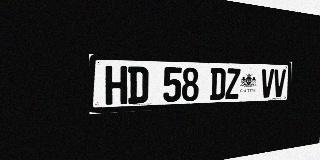5: (163, 67, 182, 102)
8: (182, 67, 199, 101)
D: (128, 66, 148, 104), (210, 68, 226, 100)
H: (105, 66, 127, 105)
V: (260, 69, 274, 98), (273, 69, 286, 97)
Z: (225, 68, 240, 99)
